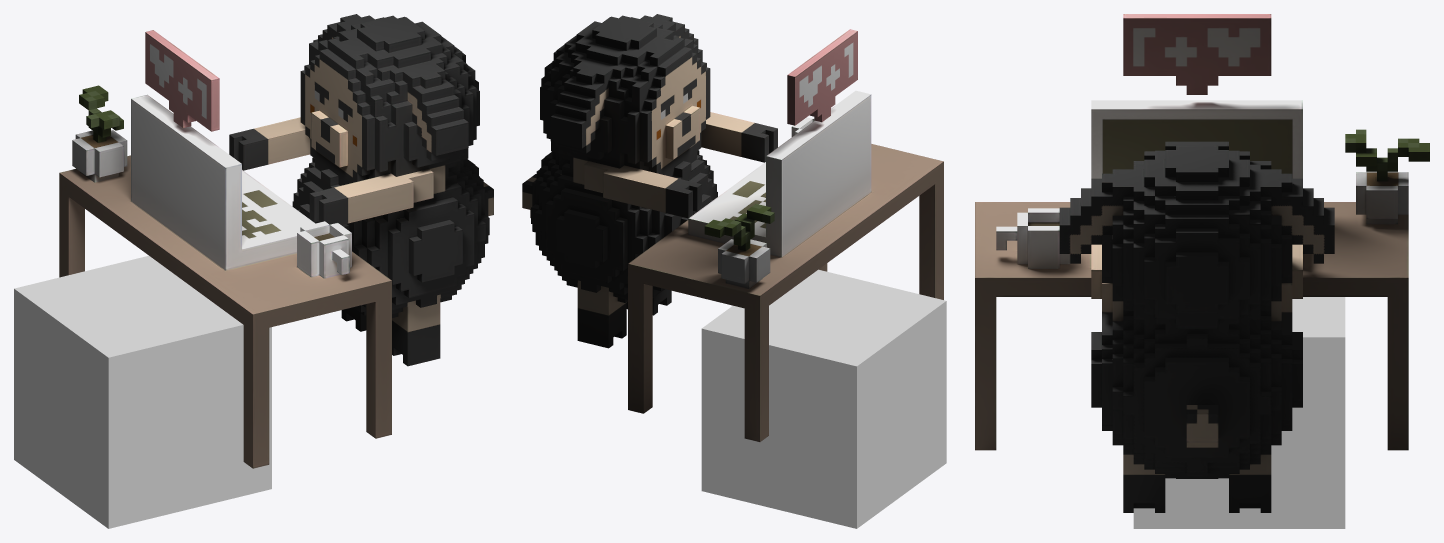
The picture shows the model from 3 angles, left to right: view 1: azimuth 30°, elevation 25°; view 2: azimuth 150°, elevation 25°; view 3: azimuth 270°, elevation 25°; orthographic projection. The views are drawn at different scales.
Visible parts, largest first — view 1: Untitled, Cube; view 2: Untitled, Cube; view 3: Untitled, Cube.
Part boxes in pixels (bbox=[...]): Untitled: bbox=[59, 14, 493, 468]; Cube: bbox=[14, 255, 271, 528]; Untitled: bbox=[522, 14, 943, 441]; Cube: bbox=[701, 269, 946, 528]; Untitled: bbox=[975, 14, 1429, 512]; Cube: bbox=[1133, 297, 1345, 528].
Size of what is drawn, in the model's own units: 5 by 5 by 4.3.
Materials: 2 (1 with a texture image).
